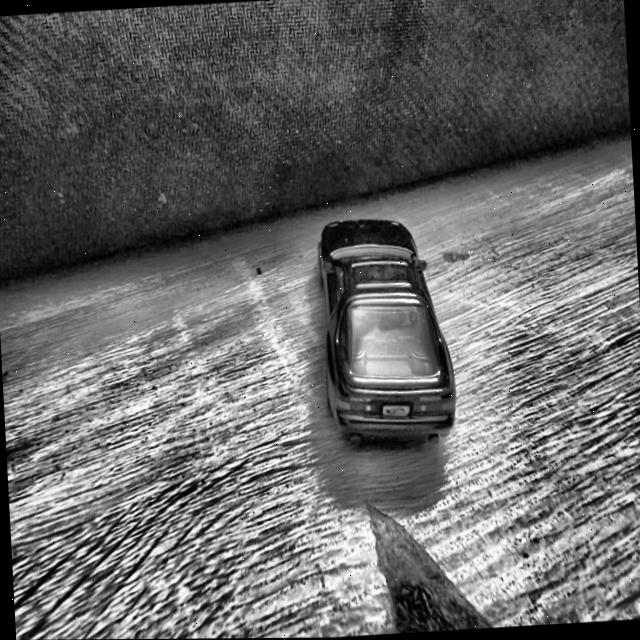car: (314, 212, 458, 448)
